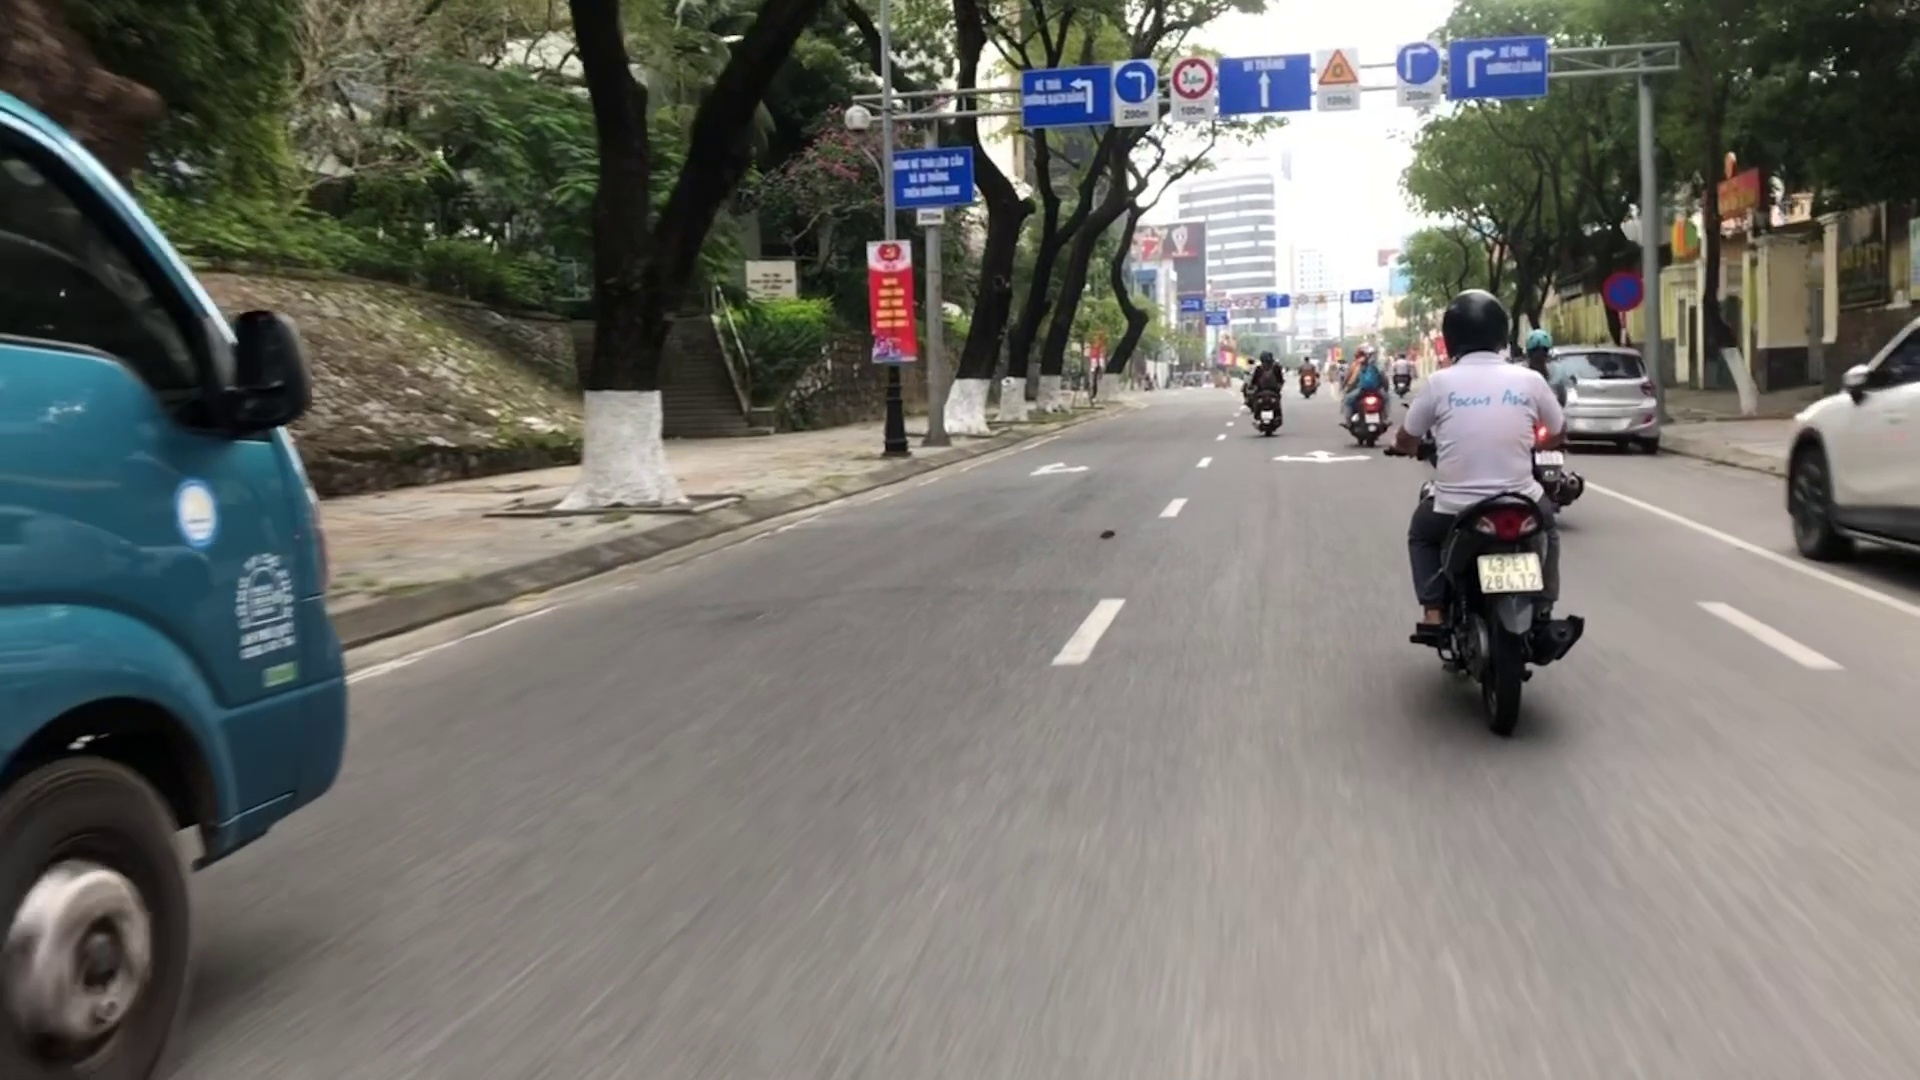Bien khac: (1389, 38, 1443, 105), (1308, 44, 1360, 111), (1164, 55, 1215, 123), (1112, 65, 1156, 125)
Cam do xe: (1602, 266, 1642, 313)
